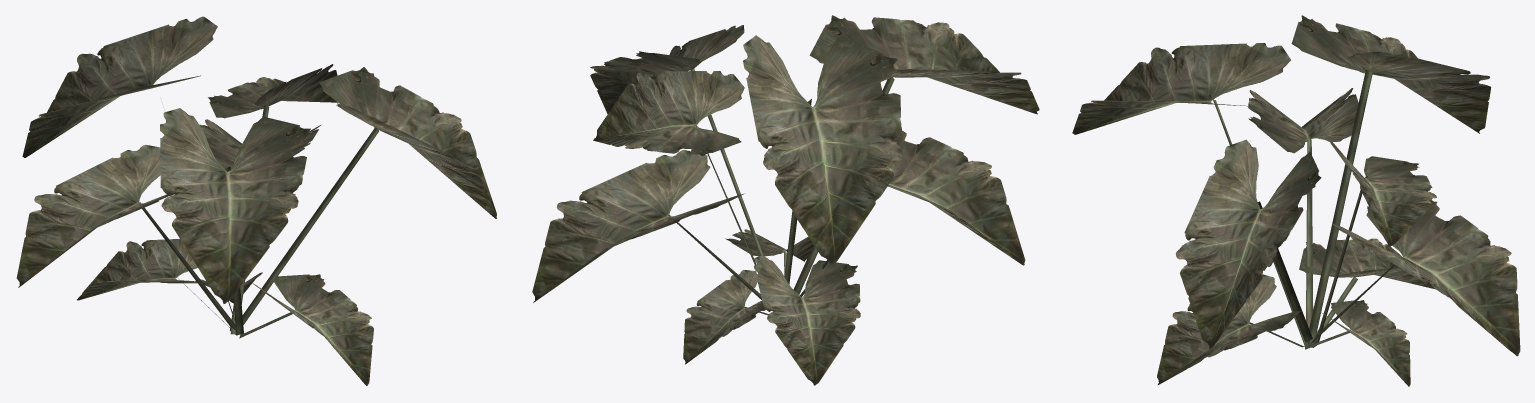
The model's file is Model_Plant_17.fbx.
3 renders of one model, left to right at view 1: azimuth 30°, elevation 25°; view 2: azimuth 150°, elevation 25°; view 3: azimuth 270°, elevation 25°, orthographic. The views are drawn at different scales.
Parts seen in each view (by area): view 1: Plant_02_LowLOD; view 2: Plant_02_LowLOD; view 3: Plant_02_LowLOD.
Boxes of the visible parts, bbox=[...] form: Plant_02_LowLOD: bbox=[16, 16, 496, 385]; Plant_02_LowLOD: bbox=[532, 15, 1039, 385]; Plant_02_LowLOD: bbox=[1072, 15, 1520, 386].
Size of the model in its own units: 192 by 129 by 166.
